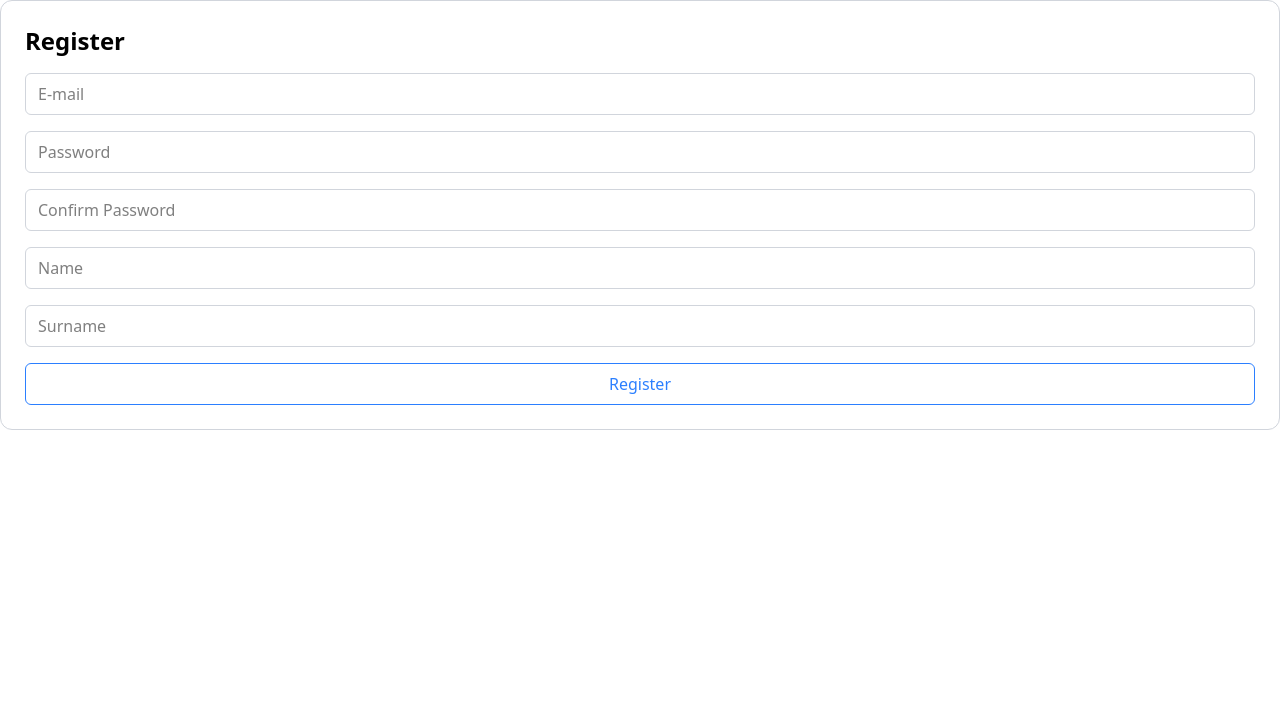
Test: Register Form › Validation › Invalid e-mail
The width and height of the screenshot is (1280, 720).
Type "test" into the field labelled "E-mail" at (640, 94), box [25,73,1255,115]
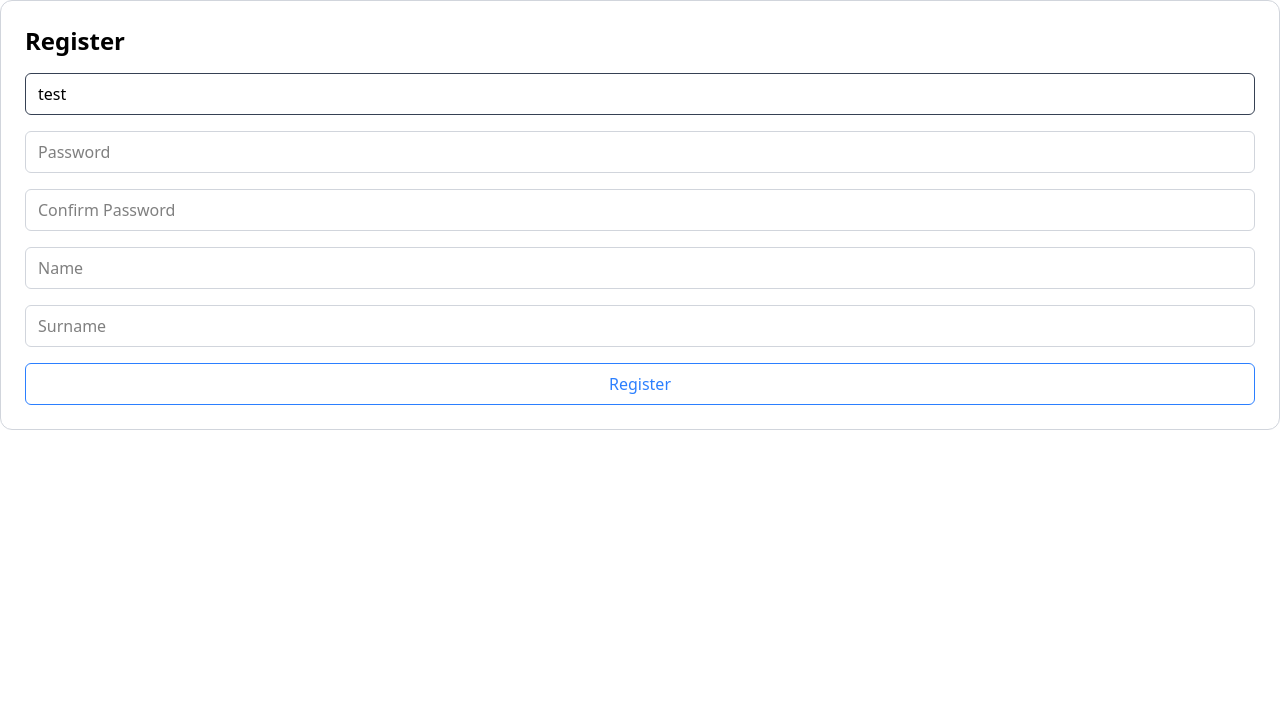
Click the button with aria-label "Register button" at (640, 384), box [25,363,1255,405]
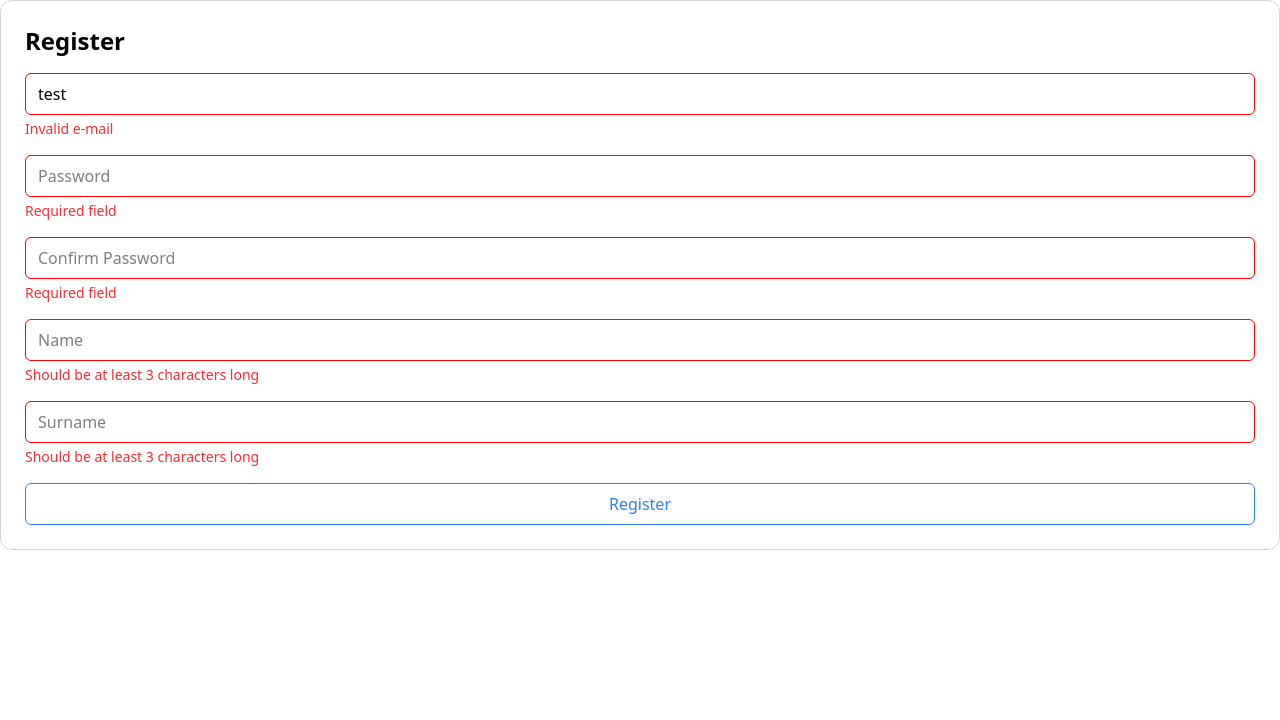
Result: the text "Invalid e-mail" is shown at [25,119,113,138]
